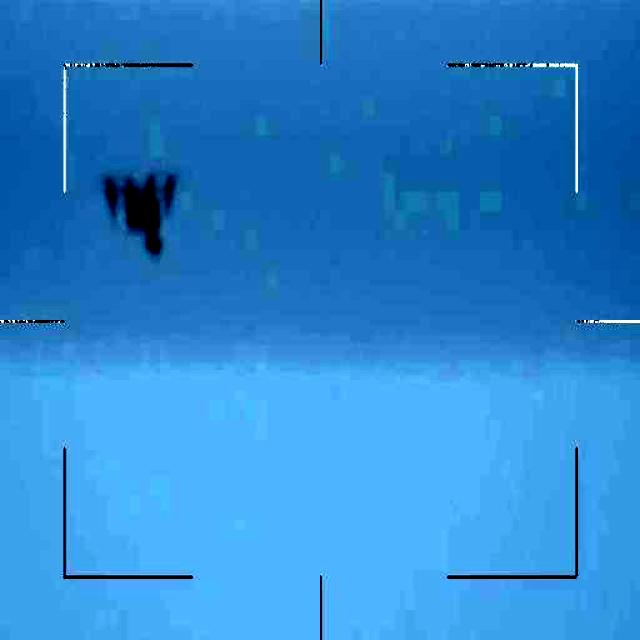bird: (105, 159, 182, 261)
